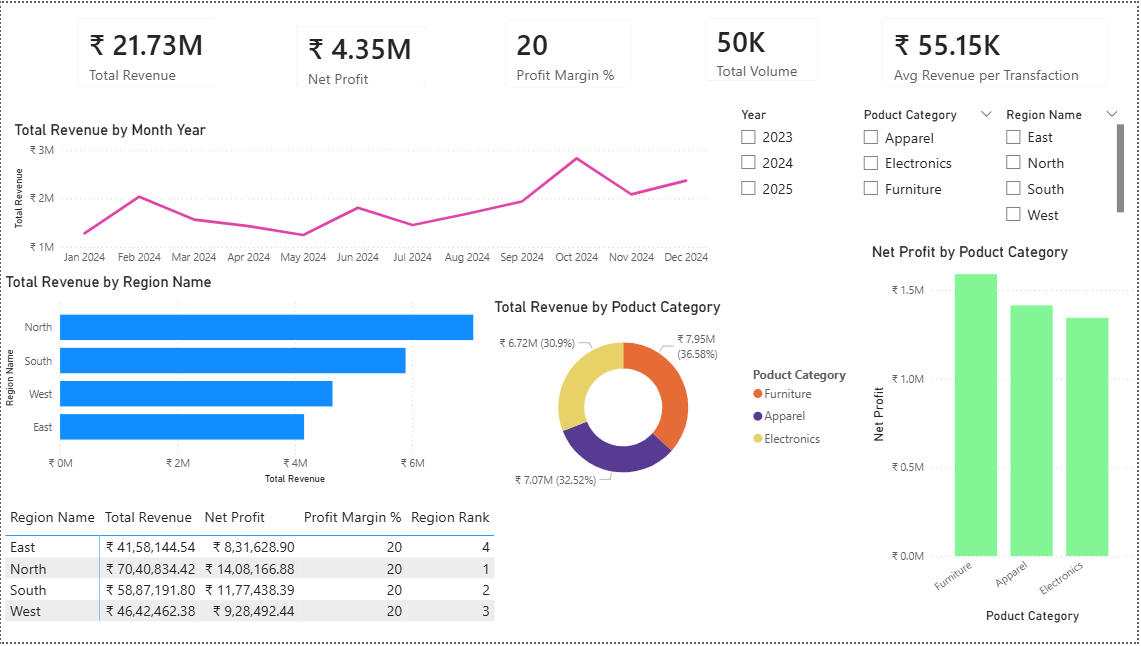

What the dashboard file says about the page in this screenshot:
{"tool":"powerbi","page":{"name":"Dashboard","canvas":[1280,720],"ordinal":0},"visuals":[{"type":"cardVisual","fields":{"Data":["Calendar.Total Revenue"]},"box":[68.6,0,192.1,112.5],"z":0},{"type":"cardVisual","fields":{"Data":["Calendar.Net Profit"]},"box":[315.6,8.2,181.1,104.3],"z":1000},{"type":"cardVisual","fields":{"Data":["Calendar.Profit Margin %"]},"box":[550.3,1.4,177,111.1],"z":2000},{"type":"cardVisual","fields":{"Data":["Calendar.Total Volume"]},"box":[776.7,0,163.3,105.7],"z":3000},{"type":"lineChart","fields":{"Y":["Calendar.Total Revenue"],"Category":["Calendar.Month Year"]},"box":[9.6,131.7,795.9,172.9],"z":4000},{"type":"clusteredBarChart","fields":{"Y":["Calendar.Total Revenue"],"Category":["financial_dashboard dim_region.Region Name"]},"box":[0,304.6,614.8,242.9],"z":5000},{"type":"clusteredColumnChart","fields":{"Y":["Calendar.Net Profit"],"Category":["financial_dashboard dim_product.Poduct Category"]},"box":[975.6,270.3,304.6,433.6],"z":6000},{"type":"donutChart","fields":{"Category":["financial_dashboard dim_product.Poduct Category"],"Y":["Calendar.Total Revenue"]},"box":[550.3,332.1,421.3,227.8],"z":7000},{"type":"pivotTable","fields":{"Rows":["financial_dashboard dim_region.Region Name"],"Values":["Calendar.Total Revenue","Calendar.Net Profit","Calendar.Profit Margin %","Calendar.Region Rank"]},"box":[0,559.9,564,160.5],"z":8000},{"type":"slicer","fields":{"Values":["Calendar.Year"]},"box":[820.6,112.5,201.7,113.9],"z":9000},{"type":"slicer","fields":{"Values":["financial_dashboard dim_region.Region Name"]},"box":[1119.7,112.5,150.9,140],"z":10000},{"type":"slicer","fields":{"Values":["financial_dashboard dim_product.Poduct Category"]},"box":[959.2,112.5,170.2,122.1],"z":11000},{"type":"cardVisual","fields":{"Data":["Calendar.Avg Revenue per Record"]},"box":[975.6,0,288.2,112.5],"z":12000}]}

Visuals, with their boxes in screenshot pixels (x1, y1, x2, y2), scaled from the page's 1280x720 canvas onto the 1141x646 screenshot:
cardVisual - Calendar.Total Revenue: (61, 0, 232, 101)
cardVisual - Calendar.Net Profit: (281, 7, 443, 101)
cardVisual - Calendar.Profit Margin %: (491, 1, 648, 101)
cardVisual - Calendar.Total Volume: (692, 0, 838, 95)
lineChart - Calendar.Total Revenue x Calendar.Month Year: (9, 118, 718, 273)
clusteredBarChart - Calendar.Total Revenue x financial_dashboard dim_region.Region Name: (0, 273, 548, 491)
clusteredColumnChart - Calendar.Net Profit x financial_dashboard dim_product.Poduct Category: (870, 243, 1140, 632)
donutChart - financial_dashboard dim_product.Poduct Category x Calendar.Total Revenue: (491, 298, 866, 502)
pivotTable - financial_dashboard dim_region.Region Name x Calendar.Total Revenue: (0, 502, 503, 645)
slicer - Calendar.Year: (731, 101, 911, 203)
slicer - financial_dashboard dim_region.Region Name: (998, 101, 1133, 227)
slicer - financial_dashboard dim_product.Poduct Category: (855, 101, 1007, 210)
cardVisual - Calendar.Avg Revenue per Record: (870, 0, 1127, 101)
